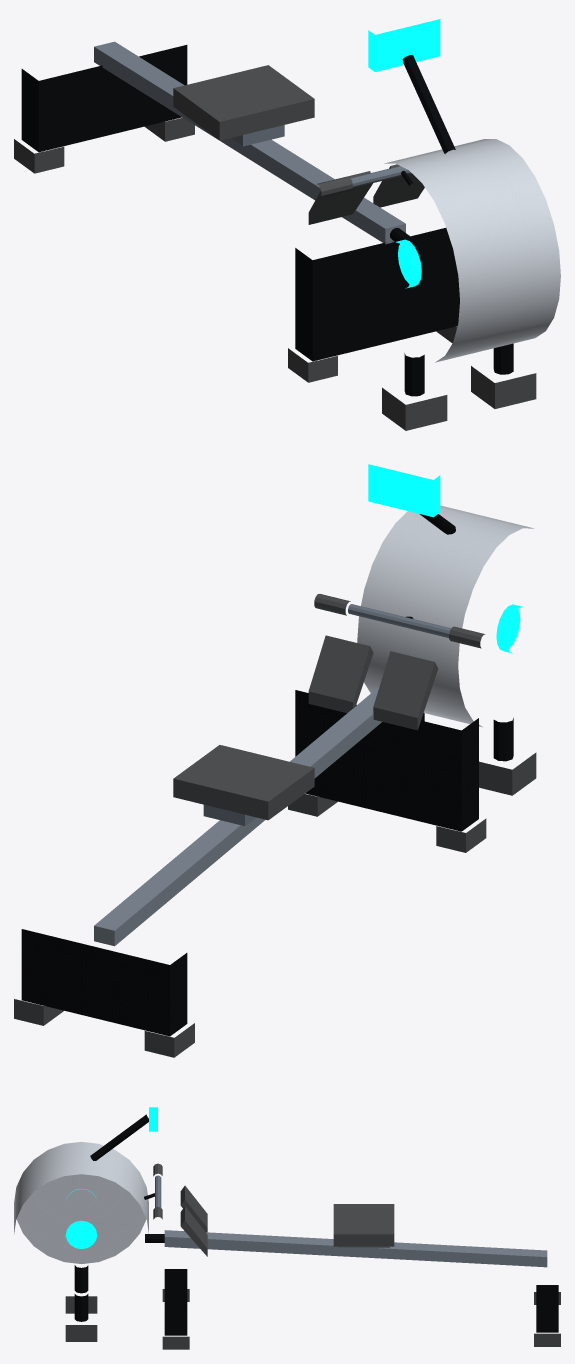
File: tt_gym_rower.glb
3 views of the same model, one above another, from view 1: azimuth 30°, elevation 25°; view 2: azimuth 150°, elevation 25°; view 3: azimuth 270°, elevation 25° (orthographic). The views are drawn at different scales.
Visible parts, largest first — view 1: Legs, Fan_Cage, Seat, Monorail, Fan_Feet, Feet, Monitor_LED, Footrests, Fan_Legs, Monitor_Arm, Fan_Hub_LED, Handle_Bar (+2 smaller); view 2: Legs, Fan_Cage, Monorail, Footrests, Seat, Feet, Monitor_LED, Fan_Feet, Handle_Bar, Handle_Grips, Fan_Hub_LED, Fan_Legs; view 3: Fan_Cage, Monorail, Legs, Seat, Footrests, Feet, Fan_Feet, Fan_Legs, Fan_Hub_LED, Monitor_Arm.
Boxes of the visible parts, x1=… form: Legs: x1=21, y1=45, x2=459, y2=361; Fan_Cage: x1=384, y1=139, x2=560, y2=362; Seat: x1=173, y1=65, x2=314, y2=140; Monorail: x1=94, y1=41, x2=405, y2=244; Fan_Feet: x1=382, y1=366, x2=536, y2=430; Feet: x1=14, y1=117, x2=457, y2=382; Monitor_LED: x1=368, y1=19, x2=440, y2=71; Footrests: x1=308, y1=164, x2=424, y2=224; Fan_Legs: x1=404, y1=343, x2=513, y2=396; Monitor_Arm: x1=402, y1=55, x2=455, y2=153; Fan_Hub_LED: x1=396, y1=239, x2=421, y2=288; Handle_Bar: x1=350, y1=166, x2=411, y2=187; Legs: x1=21, y1=690, x2=478, y2=1036; Fan_Cage: x1=357, y1=505, x2=534, y2=727; Monorail: x1=94, y1=686, x2=381, y2=946; Footrests: x1=308, y1=635, x2=438, y2=730; Seat: x1=173, y1=745, x2=314, y2=820; Feet: x1=14, y1=794, x2=486, y2=1057; Monitor_LED: x1=368, y1=464, x2=440, y2=517; Fan_Feet: x1=479, y1=752, x2=536, y2=795; Handle_Bar: x1=348, y1=604, x2=450, y2=637; Handle_Grips: x1=314, y1=594, x2=485, y2=648; Fan_Hub_LED: x1=496, y1=604, x2=522, y2=653; Fan_Legs: x1=421, y1=713, x2=513, y2=761; Fan_Cage: x1=14, y1=1141, x2=148, y2=1263; Monorail: x1=164, y1=1230, x2=547, y2=1267; Legs: x1=164, y1=1269, x2=558, y2=1335; Seat: x1=333, y1=1204, x2=394, y2=1246; Footrests: x1=180, y1=1185, x2=207, y2=1256; Feet: x1=162, y1=1289, x2=560, y2=1349; Fan_Feet: x1=65, y1=1296, x2=97, y2=1341; Fan_Legs: x1=74, y1=1265, x2=88, y2=1321; Fan_Hub_LED: x1=65, y1=1188, x2=97, y2=1249; Monitor_Arm: x1=90, y1=1114, x2=148, y2=1160.
Size of what is drawn, in the model's own units: 0.6 by 1.1 by 2.43.
Materials: 6 (4 with a texture image).
